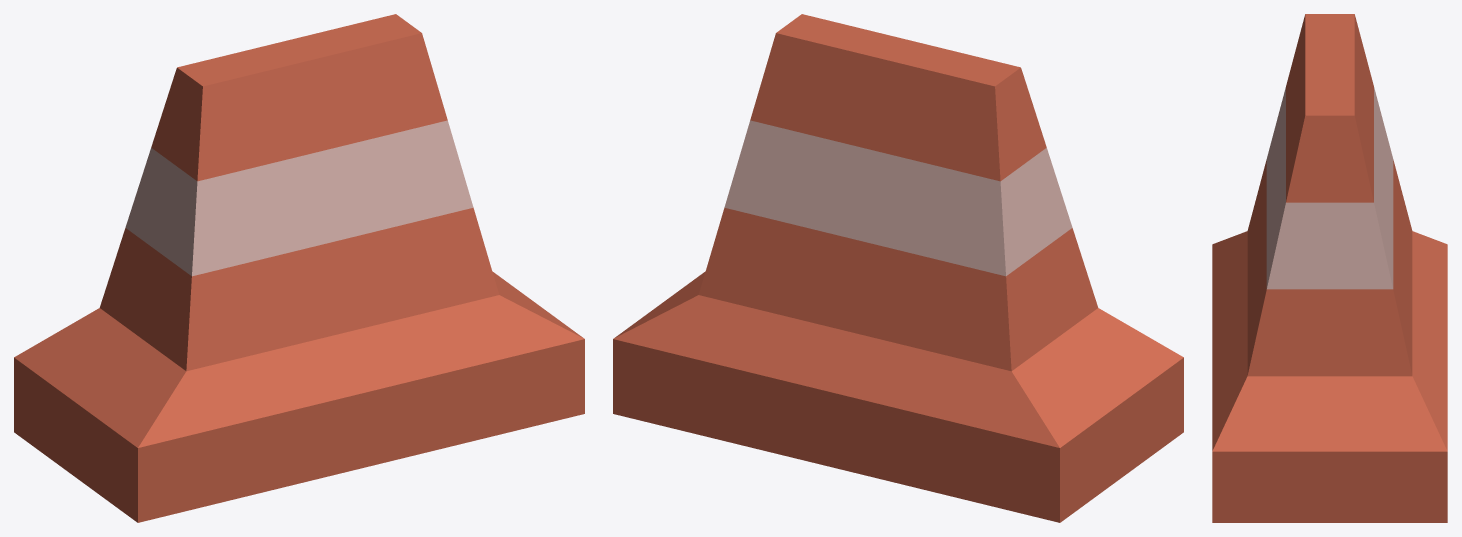
File: 16 Traffic Speed Breaker.FBX
3 renders of one model, left to right at view 1: azimuth 30°, elevation 25°; view 2: azimuth 150°, elevation 25°; view 3: azimuth 270°, elevation 25°, orthographic. The views are drawn at different scales.
Parts seen in each view (by area): view 1: Traffic Speed Breaker_4; view 2: Traffic Speed Breaker_4; view 3: Traffic Speed Breaker_4.
Part boxes in pixels (x1,y1,x2,y2): Traffic Speed Breaker_4: (14,14,584,522); Traffic Speed Breaker_4: (613,14,1183,522); Traffic Speed Breaker_4: (1212,14,1447,522).
Size of the model in its own units: 500 by 398 by 240.
